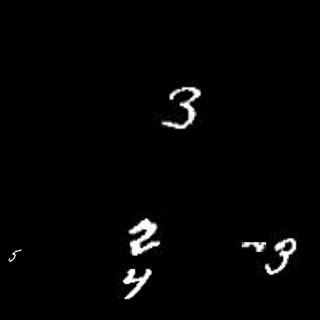five: (6, 246, 26, 265)
four: (118, 266, 155, 303)
three: (159, 83, 203, 131), (264, 236, 303, 275)
two: (122, 213, 164, 258)
